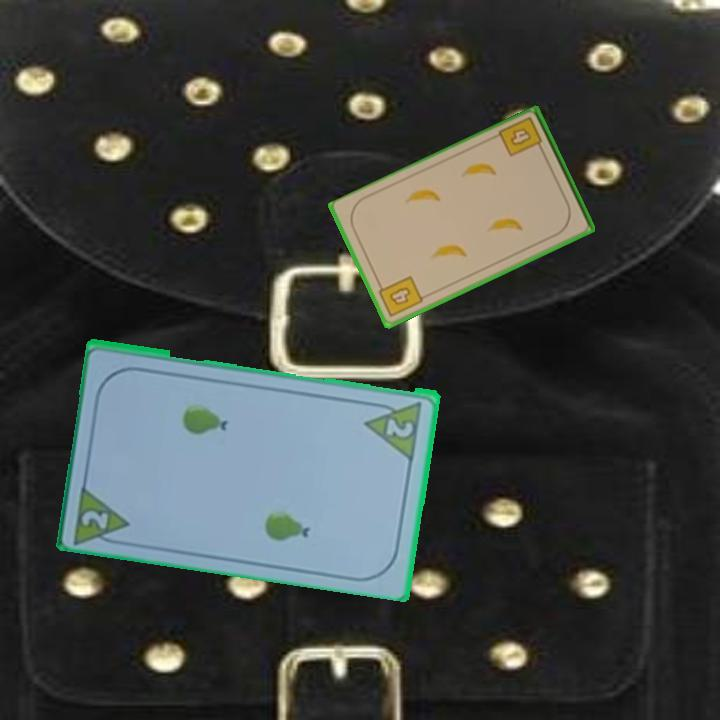2p: (382, 413, 417, 440), (78, 506, 112, 531)
4b: (374, 272, 426, 320), (495, 113, 547, 160)
